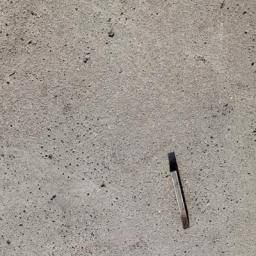FOD: (160, 151, 194, 234)
